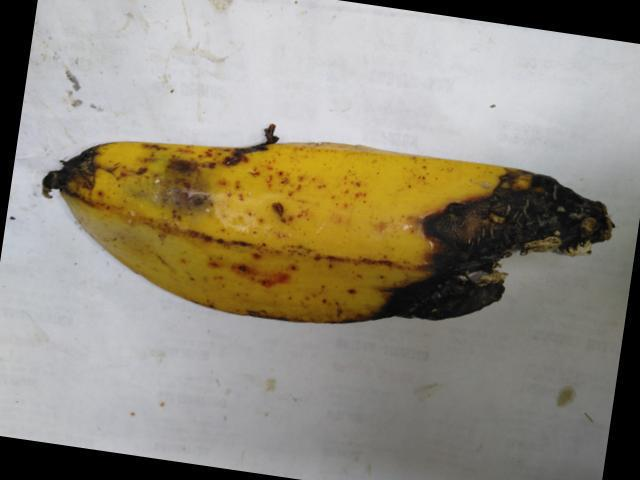rotten: (357, 139, 639, 325), (38, 81, 306, 243)
